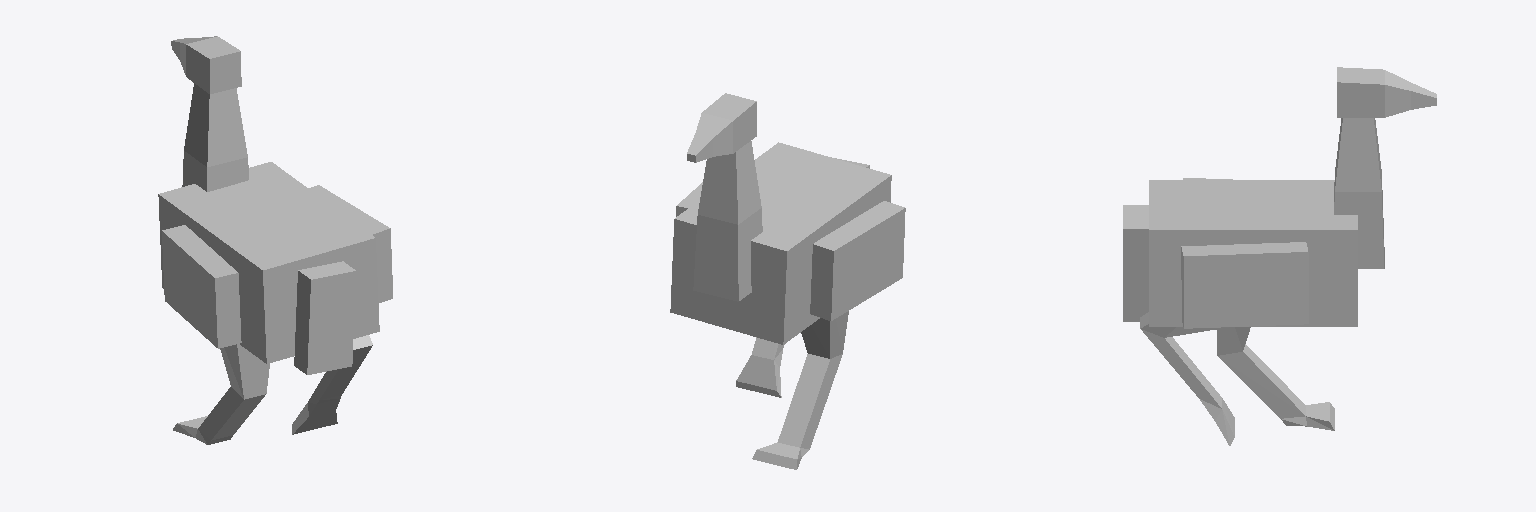
File: Ostrich_000214.obj
3 renders of one model, left to right at view 1: azimuth 30°, elevation 25°; view 2: azimuth 150°, elevation 25°; view 3: azimuth 270°, elevation 25°, orthographic.
Visible parts, largest first — view 1: Cube_Cube.001; view 2: Cube_Cube.001; view 3: Cube_Cube.001.
Part boxes in pixels (left/top/right/bottom): Cube_Cube.001: left=158, top=36, right=392, bottom=444; Cube_Cube.001: left=670, top=93, right=905, bottom=469; Cube_Cube.001: left=1123, top=67, right=1436, bottom=445.
Bounding box in the file's own units: 0.7901 × 1.52 × 1.2.